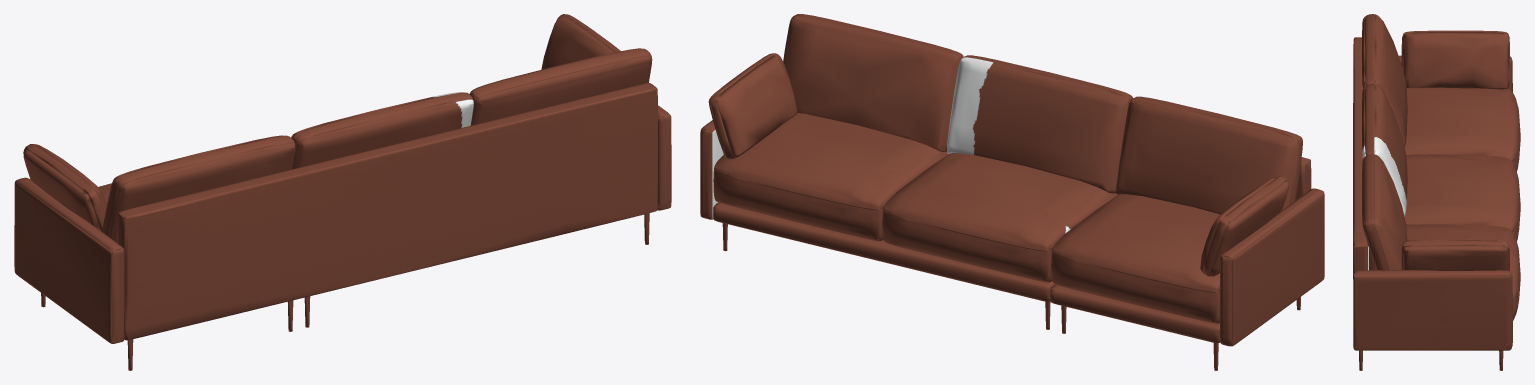
File: GG_Level1_Asset_Coach_Wide.fbx
3 renders of one model, left to right at view 1: azimuth 30°, elevation 25°; view 2: azimuth 150°, elevation 25°; view 3: azimuth 270°, elevation 25°, orthographic. The views are drawn at different scales.
Parts seen in each view (by area): view 1: Couch3Seater2; view 2: Couch3Seater2; view 3: Couch3Seater2.
Boxes of the visible parts, x1=… form: Couch3Seater2: x1=14, y1=14, x2=671, y2=370; Couch3Seater2: x1=700, y1=14, x2=1324, y2=370; Couch3Seater2: x1=1353, y1=14, x2=1520, y2=370.
Size of the model in its own units: 281 by 91.06 by 89.99.
Materials: 1 (1 with a texture image).
